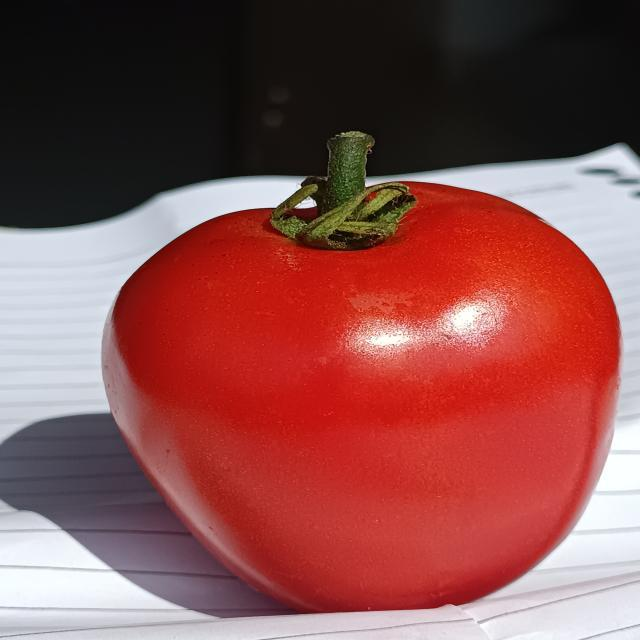Masak: (94, 163, 622, 610)
